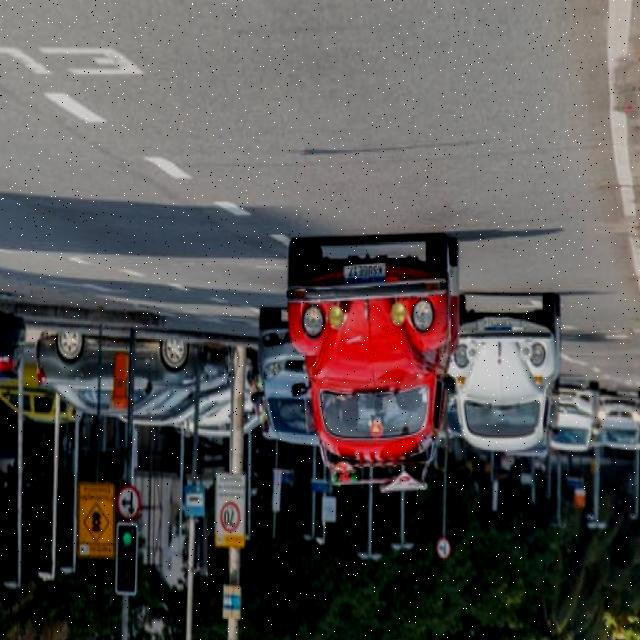car: (288, 235, 460, 474), (447, 303, 566, 460), (547, 388, 597, 451), (599, 387, 640, 455)
